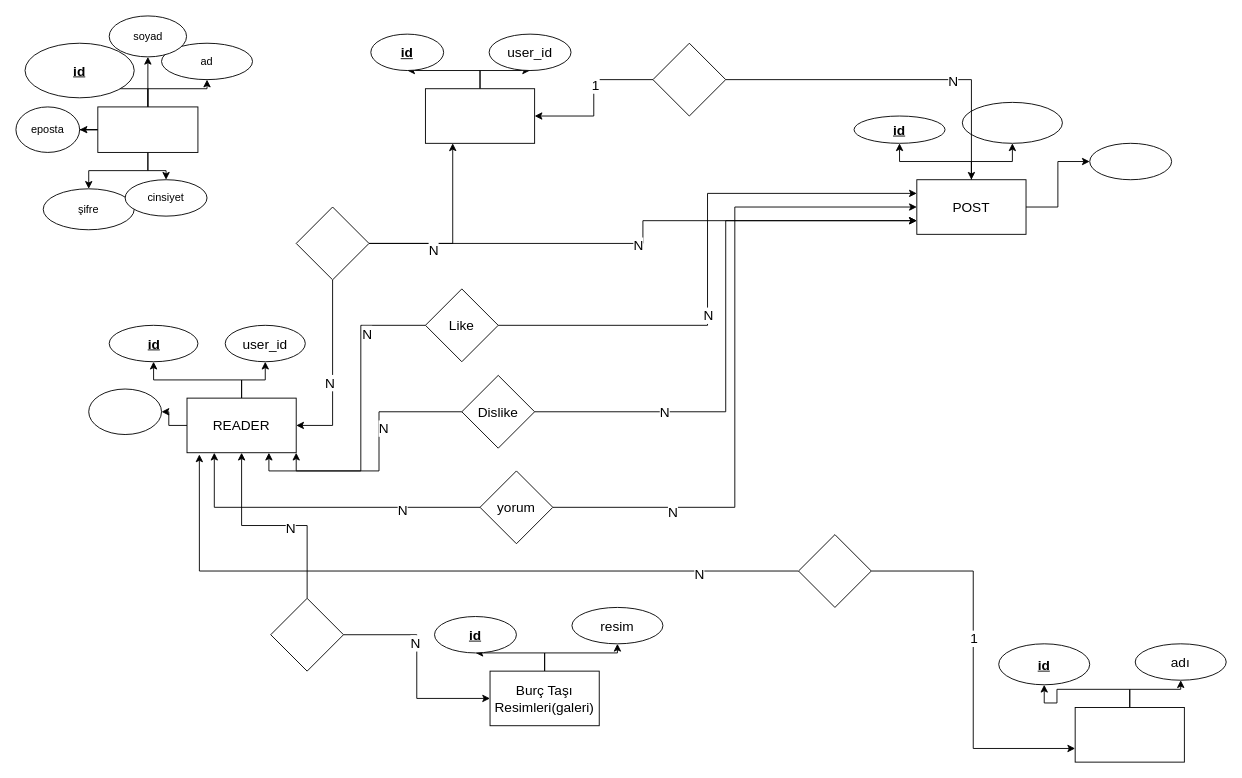
Image size: 1242x778. Some labels were removed from this diagram. The shapes that lost their labels are listed below. From the top down, each one's centre as x and y in pixels, then its label:
At [689,79]: "paylaşır".
At [147,129]: "USER".
At [480,115]: "WRITER".
At [1011,122]: "içerik".
At [1130,161]: "writer_id".
At [332,243]: "favori ekle".
At [125,411]: "burç_id".
At [834,570]: "sahip".
At [307,634]: "resim alır".
At [1129,734]: "BURÇ".
